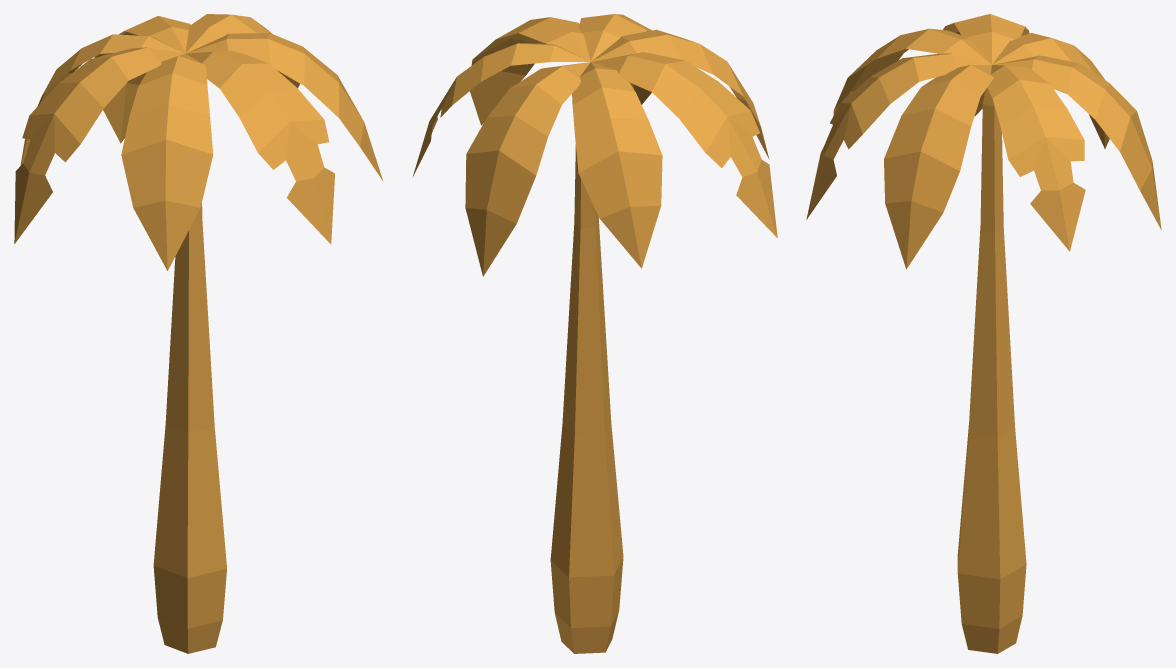
Rendered from palm.fbx.
3 renders of one model, left to right at view 1: azimuth 30°, elevation 25°; view 2: azimuth 150°, elevation 25°; view 3: azimuth 270°, elevation 25°, orthographic. The views are drawn at different scales.
Parts seen in each view (by area): view 1: palm; view 2: palm; view 3: palm.
Part boxes in pixels (left/top/right/bottom): palm: left=14, top=14, right=383, bottom=653; palm: left=412, top=14, right=777, bottom=653; palm: left=806, top=14, right=1161, bottom=653.
Size of the model in its own units: 3.58 by 6.19 by 3.37.
